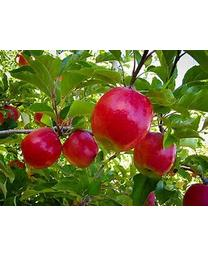apple: (91, 86, 153, 152), (134, 133, 176, 180), (22, 129, 61, 168), (63, 130, 98, 168)
